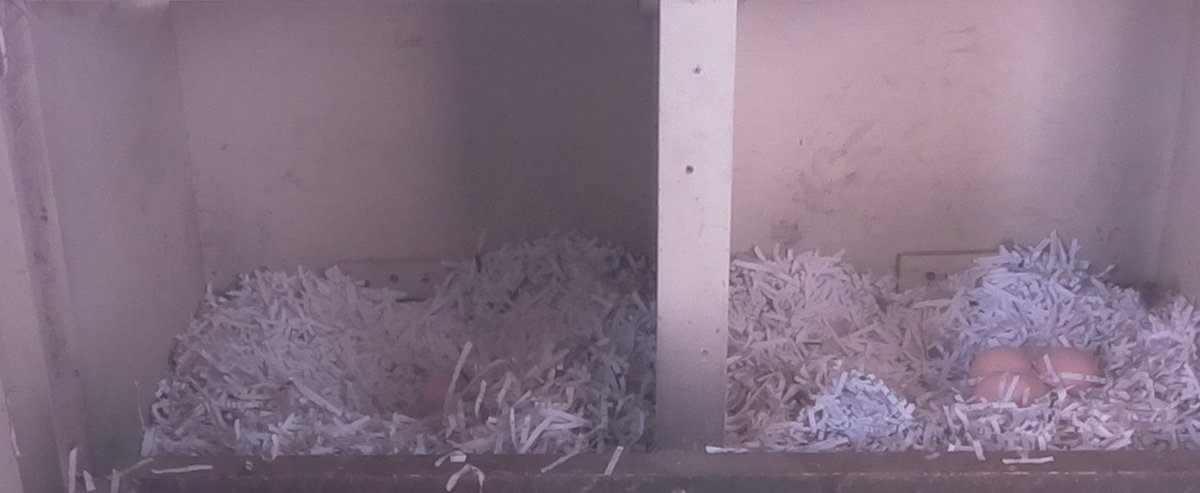egg: (1034, 344, 1105, 393), (973, 370, 1053, 412), (969, 344, 1036, 385)
